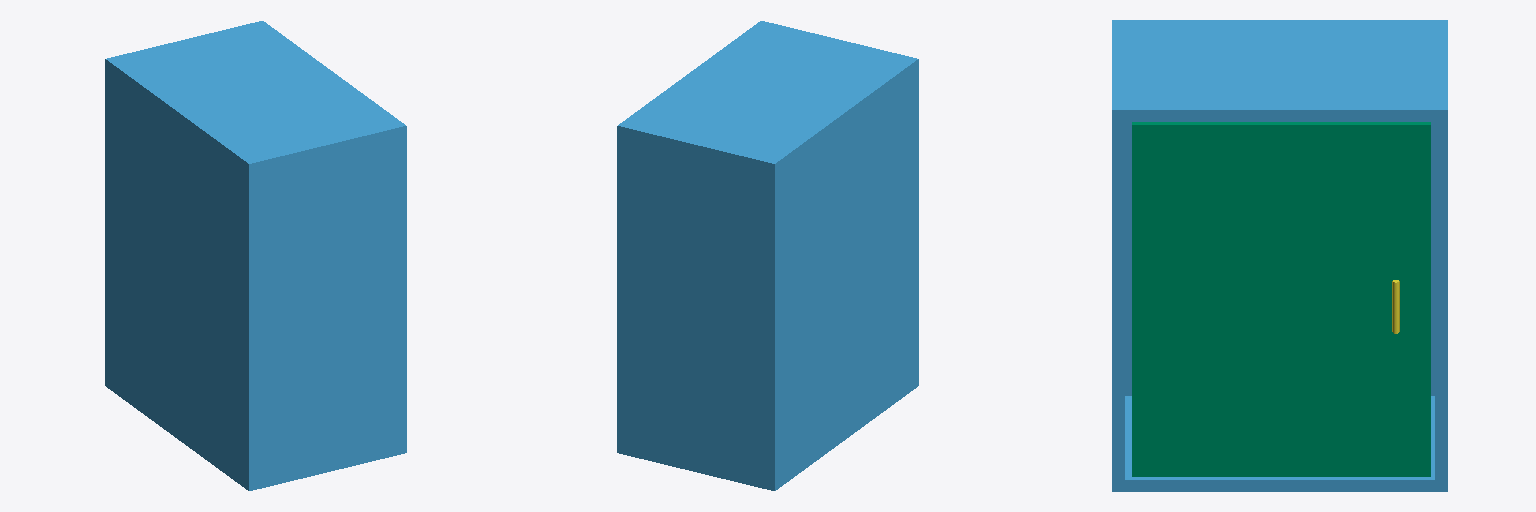
URDF robot description (my_cabinet):
<?xml version="1.0" ?>
<robot name="my_cabinet">
	<link name="world"/>
	<joint name="virtual_joint" type="fixed">
		<parent link="world"/>
		<child link="base_cabinet_link"/>
		<origin xyz="0.0 0.0 0.0" rpy="0.0 0.0 0.0"/>
	</joint>
	<link name="base_cabinet_link">
		<visual>
			<origin xyz="0.0 -0.0025 -0.28908282340317537" rpy="0.0 0.0 0.0"/>
			<geometry>
				<box size="0.3 0.4745752070530825 0.018"/>
			</geometry>
		</visual>
		<collision name="base_cabinet_link_collision_0">
			<origin xyz="0.0 -0.0025 -0.28908282340317537" rpy="0.0 0.0 0.0"/>
			<geometry>
				<box size="0.3 0.4745752070530825 0.018"/>
			</geometry>
		</collision>
		<visual>
			<origin xyz="0.0 0.22578760352654126 0.0" rpy="0.0 0.0 0.0"/>
			<geometry>
				<box size="0.3 0.018 0.5961656468063508"/>
			</geometry>
		</visual>
		<collision name="base_cabinet_link_collision_1">
			<origin xyz="0.0 0.22578760352654126 0.0" rpy="0.0 0.0 0.0"/>
			<geometry>
				<box size="0.3 0.018 0.5961656468063508"/>
			</geometry>
		</collision>
		<visual>
			<origin xyz="0.0 -0.23078760352654126 0.0" rpy="0.0 0.0 0.0"/>
			<geometry>
				<box size="0.3 0.018 0.5961656468063508"/>
			</geometry>
		</visual>
		<collision name="base_cabinet_link_collision_2">
			<origin xyz="0.0 -0.23078760352654126 0.0" rpy="0.0 0.0 0.0"/>
			<geometry>
				<box size="0.3 0.018 0.5961656468063508"/>
			</geometry>
		</collision>
		<visual>
			<origin xyz="0.0 -0.0025 0.28908282340317537" rpy="0.0 0.0 0.0"/>
			<geometry>
				<box size="0.3 0.4745752070530825 0.018"/>
			</geometry>
		</visual>
		<collision name="base_cabinet_link_collision_3">
			<origin xyz="0.0 -0.0025 0.28908282340317537" rpy="0.0 0.0 0.0"/>
			<geometry>
				<box size="0.3 0.4745752070530825 0.018"/>
			</geometry>
		</collision>
		<visual>
			<origin xyz="-0.141 -0.0025 0.0" rpy="0.0 0.0 0.0"/>
			<geometry>
				<box size="0.018 0.4745752070530825 0.5961656468063508"/>
			</geometry>
		</visual>
		<collision name="base_cabinet_link_collision_4">
			<origin xyz="-0.141 -0.0025 0.0" rpy="0.0 0.0 0.0"/>
			<geometry>
				<box size="0.018 0.4745752070530825 0.5961656468063508"/>
			</geometry>
		</collision>
		<inertial>
			<mass value="0.200000"/>
			<inertia ixx="0.009677" ixy="0.0" ixz="0.0" iyy="0.007424" iyz="0.0" izz="0.005254"/>
		</inertial>
	</link>
	<link name="door_link">
		<visual>
			<origin xyz="0.0 -0.21178760352654125 0.0"/>
			<geometry>
				<box size="0.018 0.4235752070530825 0.5501656468063507"/>
			</geometry>
		</visual>
		<collision name="door_link_collision">
			<origin xyz="0.0 -0.21178760352654125 0.0"/>
			<geometry>
				<box size="0.018 0.4235752070530825 0.5501656468063507"/>
			</geometry>
		</collision>
		<inertial>
			<mass value="0.200000"/>
			<inertia ixx="0.008035" ixy="0.0" ixz="0.0" iyy="0.005050" iyz="0.0" izz="0.002996"/>
		</inertial>
	</link>
	<joint name="door_joint" type="revolute">
		<origin xyz="0.141 -0.21178760352654125 0.0" rpy="0.000000 -0.000000 3.141593"/>
		<axis xyz="0 0 1"/>
		<parent link="base_cabinet_link"/>
		<child link="door_link"/>
		<limit effort="50" lower="-1.658062789394613" upper="0" velocity="10"/>
		<dynamics friction="3.5" damping="3.5"/>
	</joint>
	<link name="handle_link">
		<visual>
			<origin xyz="0.0 0.0 0.0" rpy="0.0 0.0 0.0"/>
			<geometry>
				<cylinder length="0.08" radius="0.005"/>
			</geometry>
		</visual>
		<collision name="handle_link_collision_0">
			<origin xyz="0.0 0.0 0.0" rpy="0.0 0.0 0.0"/>
			<geometry>
				<cylinder length="0.08" radius="0.005"/>
			</geometry>
		</collision>
		<visual>
			<origin xyz="-0.01 0.0 0.02" rpy="0.0 1.5707963267948966 0.0"/>
			<geometry>
				<cylinder length="0.02" radius="0.003"/>
			</geometry>
		</visual>
		<collision name="handle_link_collision_1">
			<origin xyz="-0.01 0.0 0.02" rpy="0.0 1.5707963267948966 0.0"/>
			<geometry>
				<cylinder length="0.01" radius="0.003"/>
			</geometry>
		</collision>
		<visual>
			<origin xyz="-0.01 0.0 -0.02" rpy="0.0 1.5707963267948966 0.0"/>
			<geometry>
				<cylinder length="0.02" radius="0.003"/>
			</geometry>
		</visual>
		<collision name="handle_link_collision_2">
			<origin xyz="-0.01 0.0 -0.02" rpy="0.0 1.5707963267948966 0.0"/>
			<geometry>
				<cylinder length="0.02" radius="0.003"/>
			</geometry>
		</collision>
		<inertial>
			<mass value="0.050000"/>
			<inertia ixx="0.000027" ixy="0.0" ixz="0.0" iyy="0.000029" iyz="0.0" izz="0.000003"/>
		</inertial>
	</link>
	<joint name="handle_joint" type="fixed">
		<origin xyz="-0.028999999999999998 -0.3735752070530825 0.0" rpy="0.000000 -0.000000 3.141593"/>
		<parent link="door_link"/>
		<child link="handle_link"/>
	</joint>
	<gazebo reference="base_cabinet_link">
		<sensor name="main_sensor" type="contact">
			<selfCollide>true</selfCollide>
			<alwaysOn>true</alwaysOn>
			<updateRate>5.0</updateRate>
			<material>Gazebo/Red</material>
			<contact>
				<collision>base_cabinet_link_collision_0_collision</collision>
				<collision>base_cabinet_link_collision_1_collision</collision>
				<collision>base_cabinet_link_collision_2_collision</collision>
				<collision>base_cabinet_link_collision_3_collision</collision>
				<collision>base_cabinet_link_collision_4_collision</collision>
			</contact>
			<plugin name="gazebo_ros_bumper_controller" filename="libgazebo_ros_bumper.so">
				<bumperTopicName>/contact</bumperTopicName>
				<frameName>world</frameName>
			</plugin>
		</sensor>
	</gazebo>
	<gazebo reference="door_link">
		<sensor name="main_sensor" type="contact">
			<selfCollide>true</selfCollide>
			<alwaysOn>true</alwaysOn>
			<updateRate>5.0</updateRate>
			<material>Gazebo/Red</material>
			<contact>
				<collision>door_link_collision_collision</collision>
			</contact>
			<plugin name="gazebo_ros_bumper_controller" filename="libgazebo_ros_bumper.so">
				<bumperTopicName>/contact_door</bumperTopicName>
				<frameName>contact_door</frameName>
			</plugin>
		</sensor>
	</gazebo>
	<gazebo reference="door_link">
		<mu>3.0</mu>
		<mu2>3.0</mu2>
		<kp>10000000</kp>
		<kd>100</kd>
	</gazebo>
</robot>

--- Render facts (derived) ---
The picture shows the robot from 3 angles, left to right: view 1: azimuth 30°, elevation 25°; view 2: azimuth 150°, elevation 25°; view 3: azimuth 270°, elevation 25°; orthographic projection.
Model my_cabinet with 4 links and 3 joints (1 revolute, 2 fixed), rooted at world, posed all joints at 0.
Visible links, largest first — view 1: base_cabinet_link; view 2: base_cabinet_link; view 3: door_link, base_cabinet_link.
Link boxes in pixels (x1,y1,x2,y2): base_cabinet_link: (105,21,406,490); base_cabinet_link: (617,21,918,490); door_link: (1132,122,1430,476); base_cabinet_link: (1112,20,1447,491).
Bounding box of the posed robot: 0.325 × 0.4746 × 0.5962 m (x, y, z).
Geometry: primitives only (box / cylinder / sphere), no mesh files.
